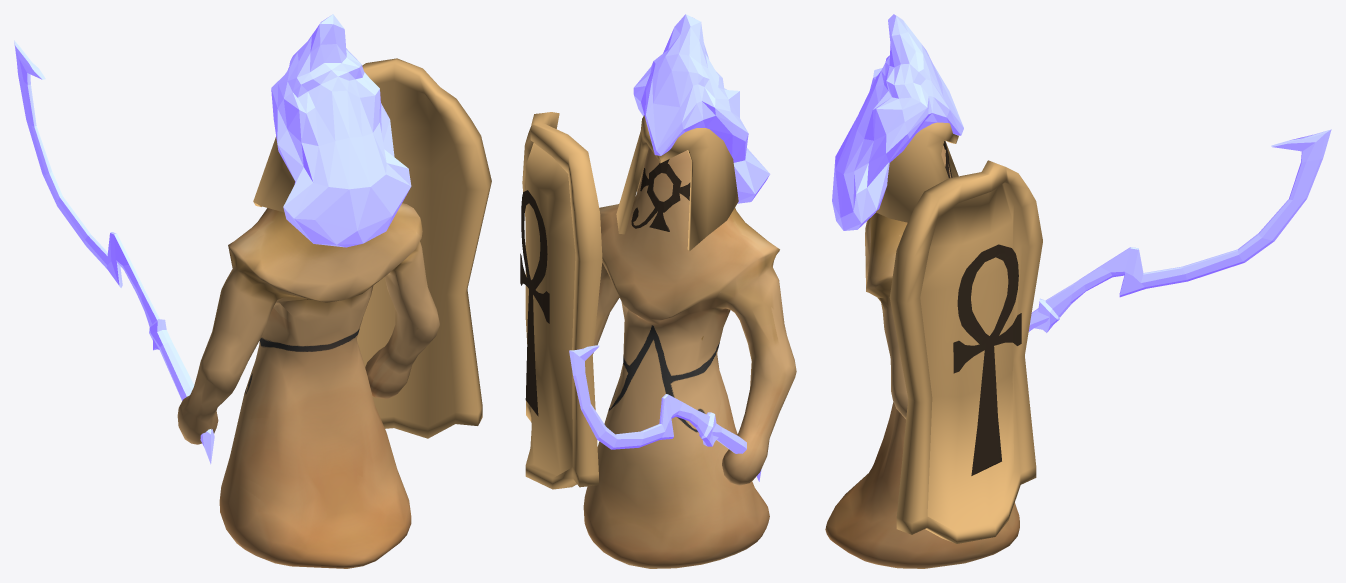
The model's file is sentinel_model.fbx.
3 views of the same model, side by side, from view 1: azimuth 30°, elevation 25°; view 2: azimuth 150°, elevation 25°; view 3: azimuth 270°, elevation 25° (orthographic). The views are drawn at different scales.
Parts seen in each view (by area): view 1: Body, Shield, Helmet, Sword; view 2: Body, Shield, Helmet, Sword; view 3: Shield, Helmet, Body, Sword.
Part boxes in pixels (x1=…): Body: x1=177, y1=203, x2=439, y2=568; Shield: x1=357, y1=58, x2=491, y2=438; Helmet: x1=253, y1=14, x2=411, y2=247; Sword: x1=14, y1=40, x2=214, y2=464; Body: x1=583, y1=147, x2=796, y2=568; Shield: x1=520, y1=112, x2=602, y2=489; Helmet: x1=616, y1=14, x2=769, y2=250; Sword: x1=569, y1=345, x2=761, y2=481; Shield: x1=889, y1=160, x2=1042, y2=543; Helmet: x1=832, y1=14, x2=963, y2=230; Body: x1=825, y1=140, x2=1019, y2=568; Sword: x1=1028, y1=129, x2=1331, y2=332.
Size of the model in its own units: 115 by 207 by 180.
Materials: 4 (1 with a texture image).
